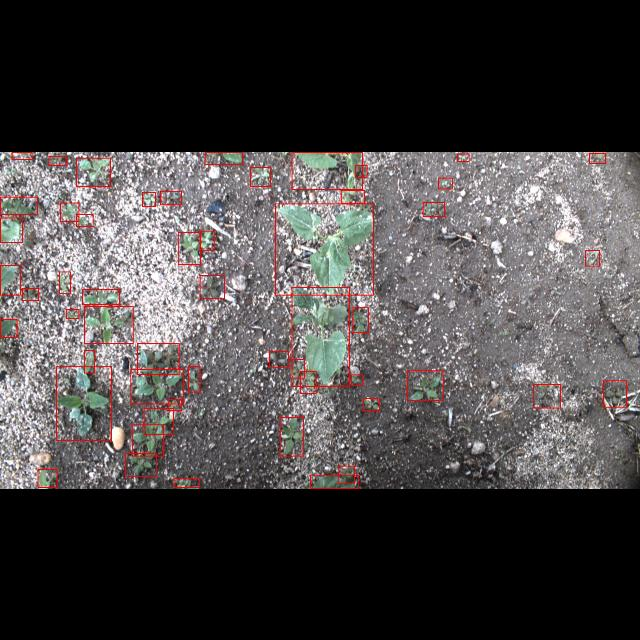crop: (276, 203, 374, 294), (292, 286, 348, 386), (292, 152, 362, 188), (311, 474, 359, 488)
weed: (56, 366, 112, 440), (130, 368, 183, 404), (84, 306, 134, 342), (137, 342, 179, 373), (407, 370, 443, 400), (132, 424, 164, 456), (76, 157, 110, 186), (280, 416, 304, 456), (144, 408, 174, 434), (178, 232, 200, 264), (0, 196, 38, 214), (125, 454, 156, 476), (534, 384, 560, 408), (82, 288, 120, 304), (0, 264, 20, 294), (200, 274, 224, 298), (0, 216, 22, 242), (604, 380, 626, 406), (205, 152, 243, 164), (250, 166, 270, 186), (353, 308, 369, 332), (300, 371, 316, 393), (38, 469, 56, 487), (60, 202, 78, 220), (269, 351, 289, 367), (188, 366, 200, 392), (423, 201, 445, 215), (160, 190, 182, 204), (1, 319, 18, 337), (200, 230, 214, 250), (342, 190, 364, 202), (174, 478, 200, 488), (339, 466, 355, 482), (292, 358, 304, 378), (586, 250, 600, 266), (84, 350, 94, 372), (60, 271, 70, 293), (76, 213, 94, 225), (142, 192, 156, 206), (22, 288, 38, 300), (363, 398, 379, 410), (438, 176, 452, 188), (589, 152, 605, 162), (49, 156, 67, 164), (168, 400, 182, 410), (12, 152, 32, 158), (352, 374, 362, 386), (356, 165, 366, 177), (66, 310, 78, 318), (457, 153, 469, 161)
